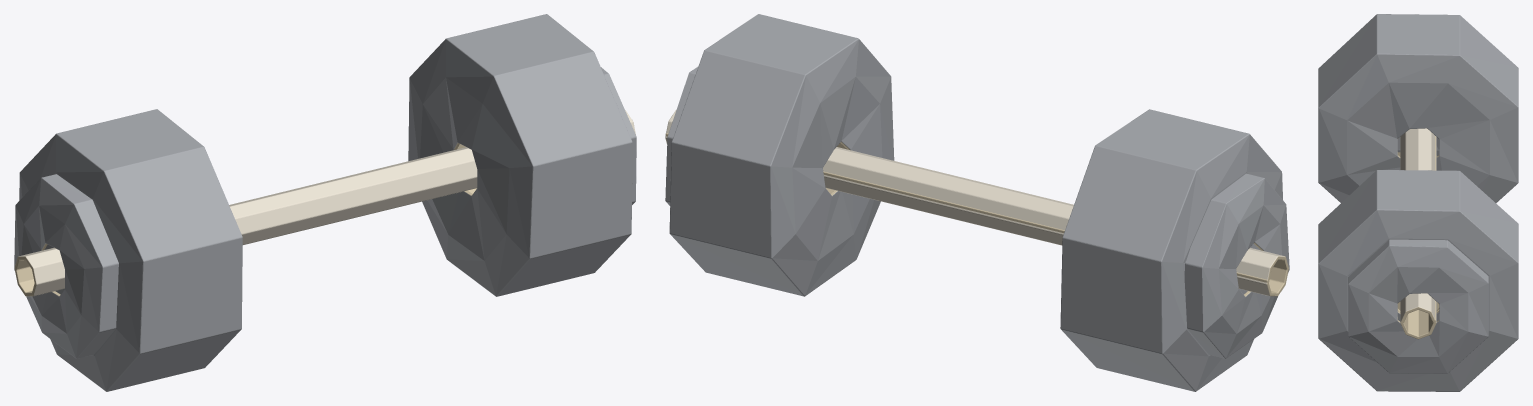
The model's file is achievement-iron-habit.glb.
3 views of the same model, side by side, from view 1: azimuth 30°, elevation 25°; view 2: azimuth 150°, elevation 25°; view 3: azimuth 270°, elevation 25° (orthographic). The views are drawn at different scales.
Visible parts, largest first — view 1: achievement-iron-habit; view 2: achievement-iron-habit; view 3: achievement-iron-habit.
Part boxes in pixels (box(x1,y1,x2,y2)): achievement-iron-habit: box(14, 14, 636, 391); achievement-iron-habit: box(665, 14, 1289, 391); achievement-iron-habit: box(1318, 14, 1518, 391).
Bounding box in the file's own units: 2.28 × 0.8044 × 0.8044.
